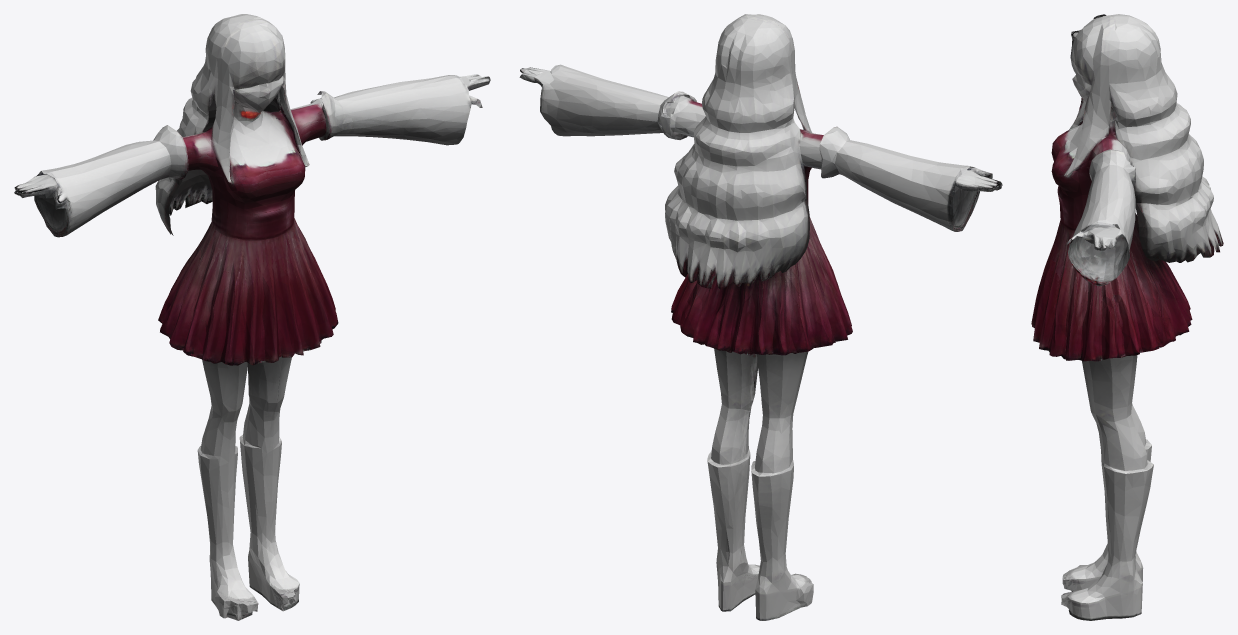
Rendered from after.glb.
3 views of the same model, side by side, from view 1: azimuth 30°, elevation 25°; view 2: azimuth 150°, elevation 25°; view 3: azimuth 270°, elevation 25° (orthographic).
Parts seen in each view (by area): view 1: world; view 2: world; view 3: world.
Boxes of the visible parts, <box> form: world: <box>14,14,490,620</box>; world: <box>519,14,1002,620</box>; world: <box>1031,14,1223,620</box>.
Bounding box in the file's own units: 0.854 × 0.994 × 0.2961.
1 material, 1 textured.
